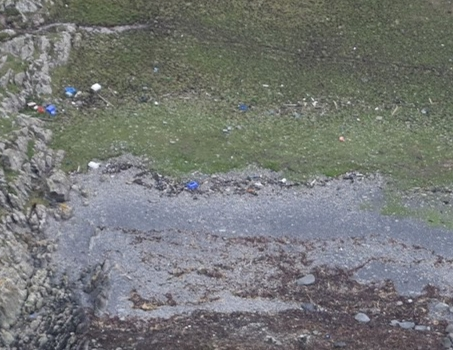scattered_barrel: (23, 79, 106, 121)
white_in_green: (74, 145, 118, 182), (169, 168, 213, 205), (220, 88, 264, 125), (323, 122, 359, 153)
